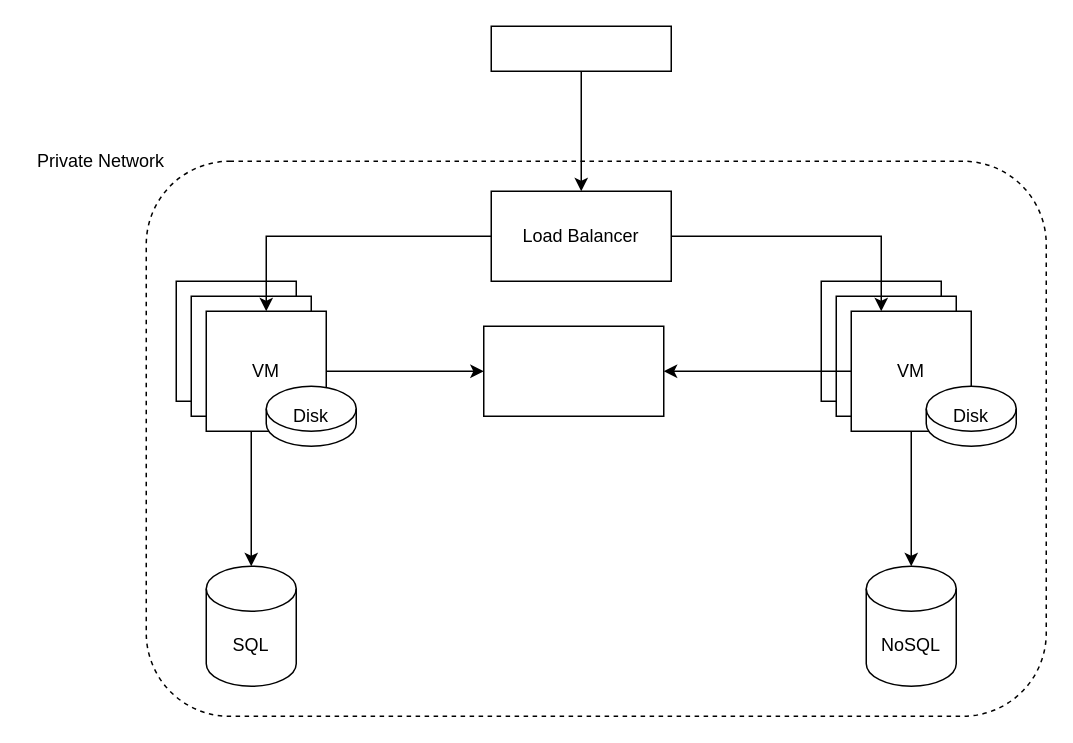
This 1073x743 diagram has some shape labels left out. Here are the shapes that lost their labels. From the top down, the centre of each, then its label:
At pixel 580 48: "DNS".
At pixel 573 370: "Cache".
